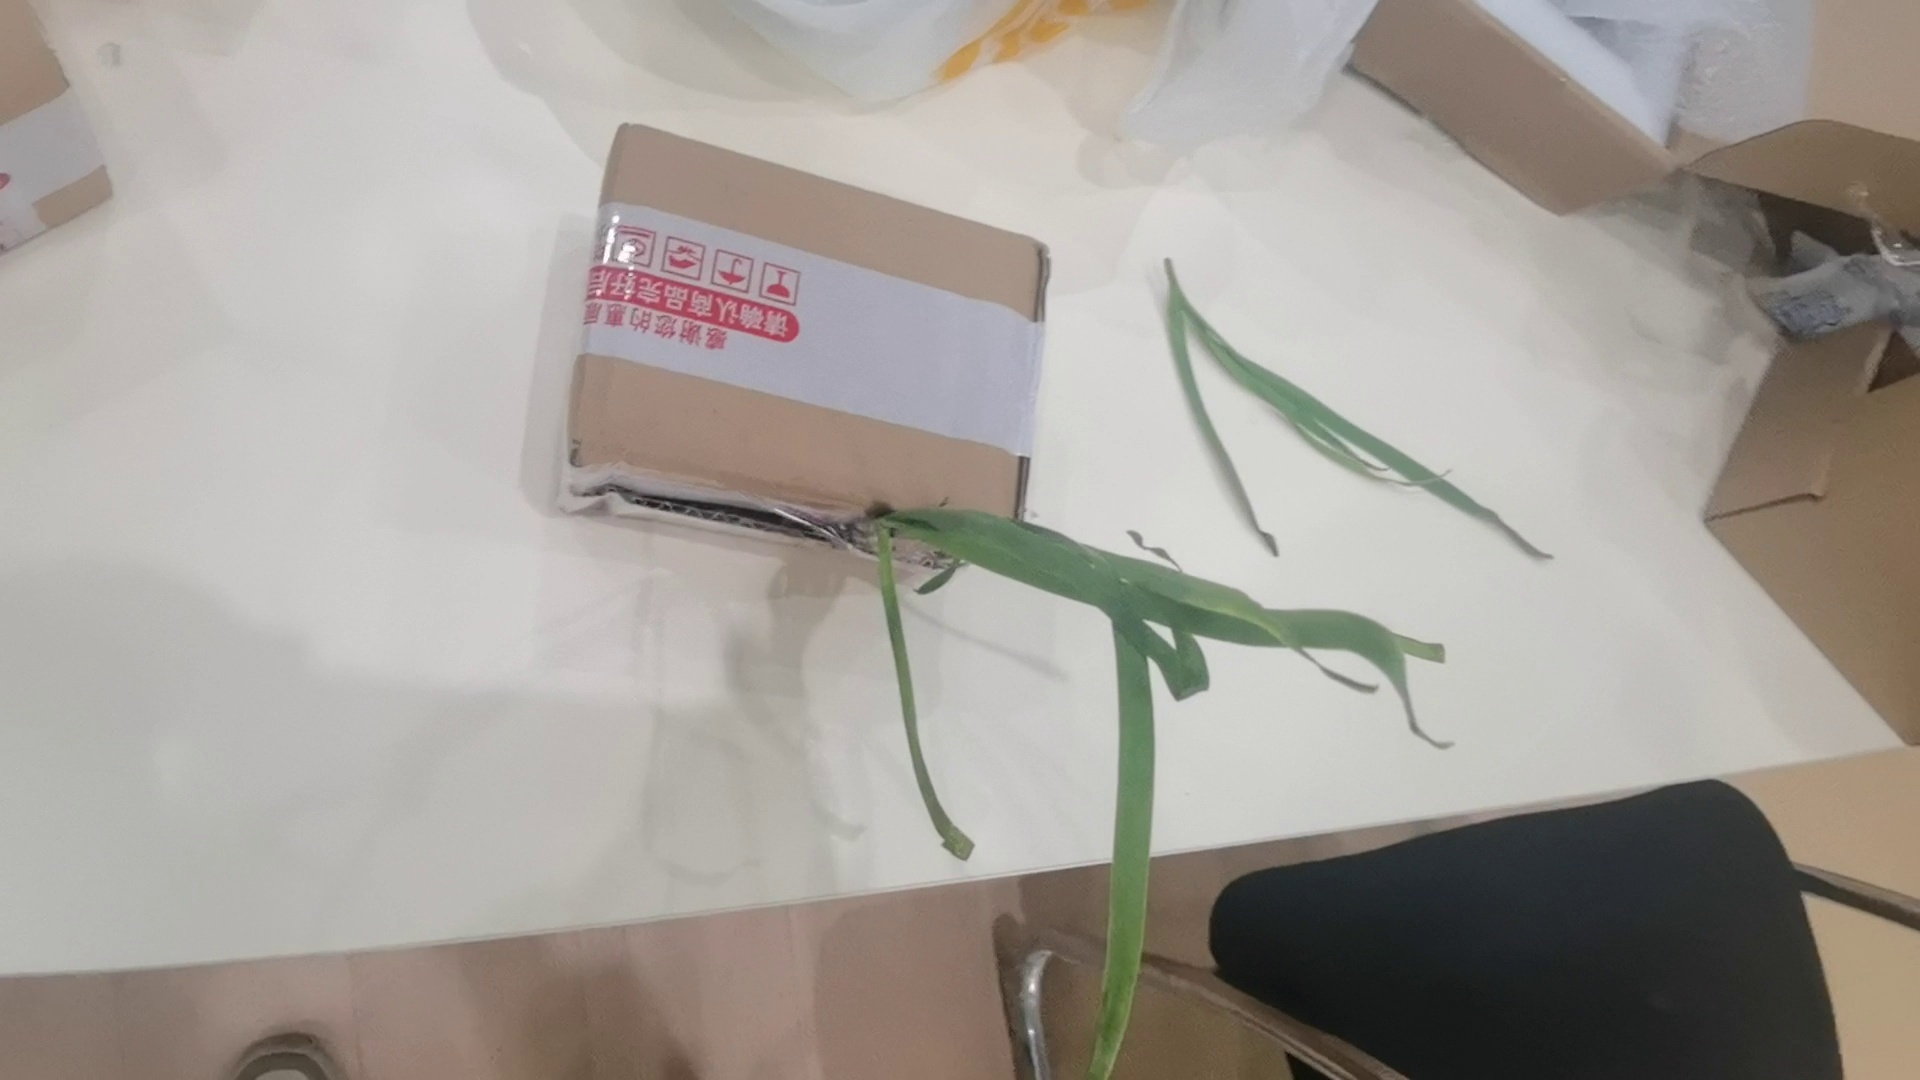chives: (845, 491, 1520, 1080), (1155, 255, 1565, 563)
